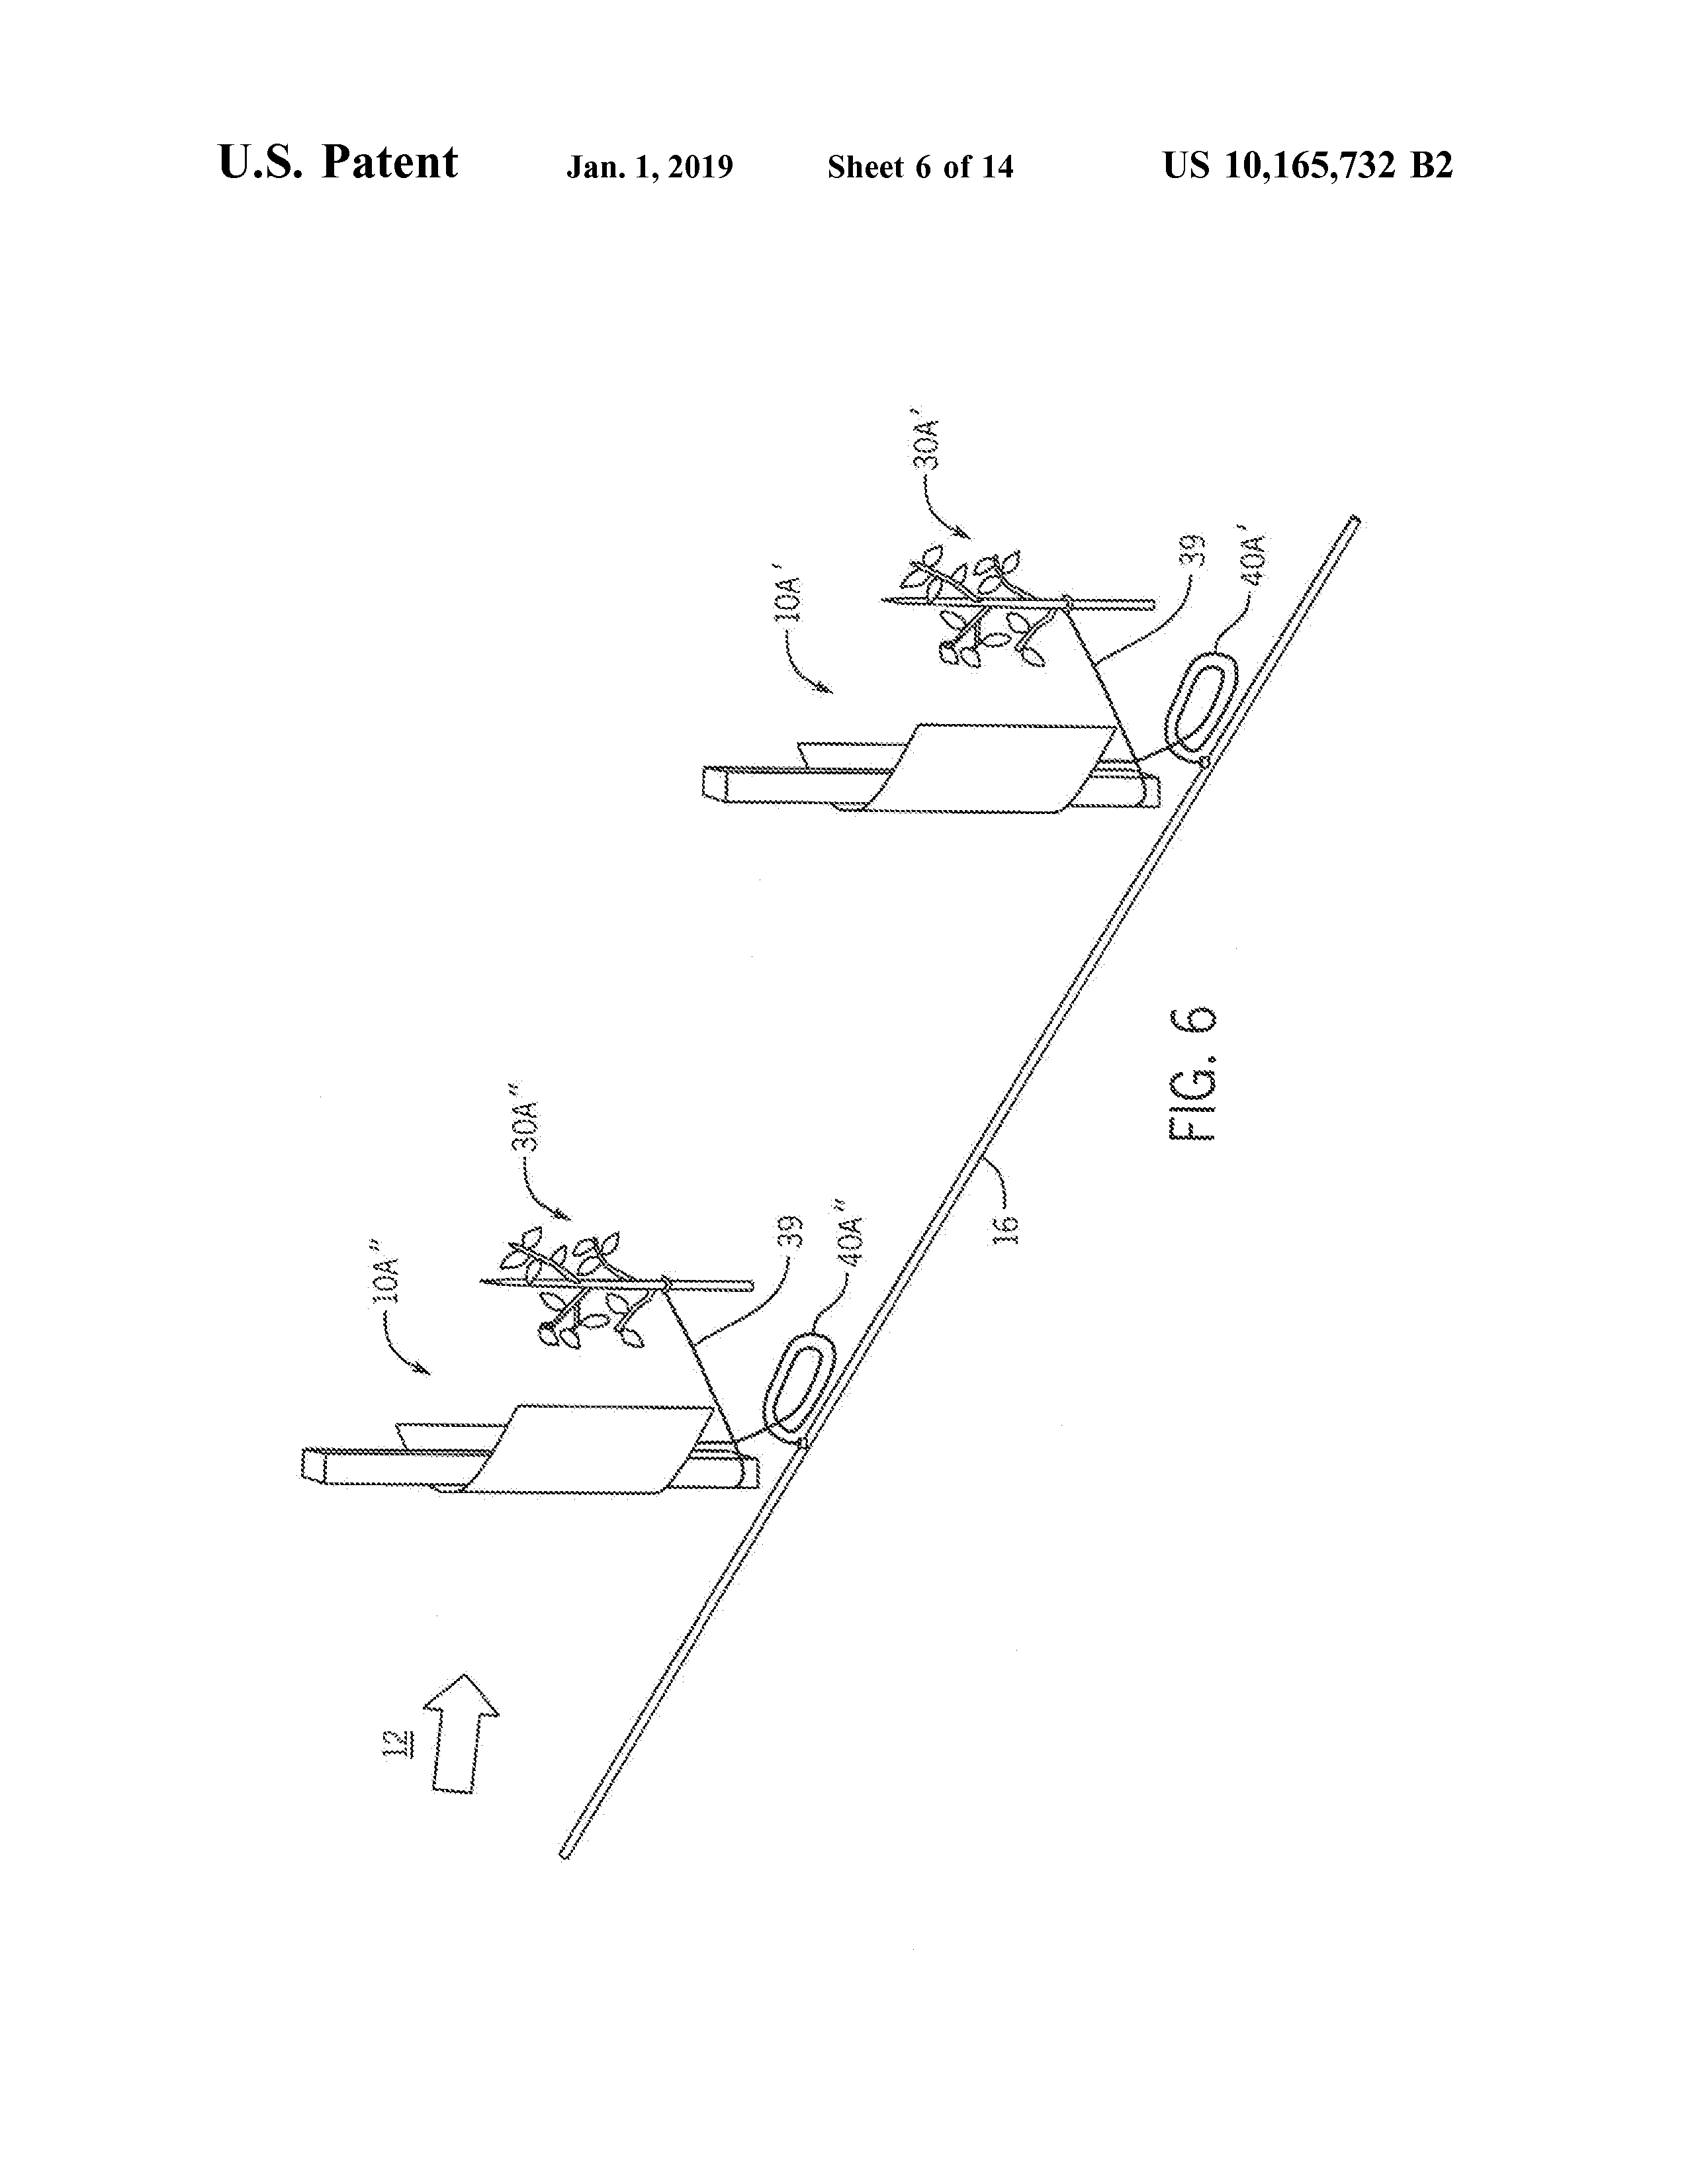patent image: (270, 371, 1366, 1916)
